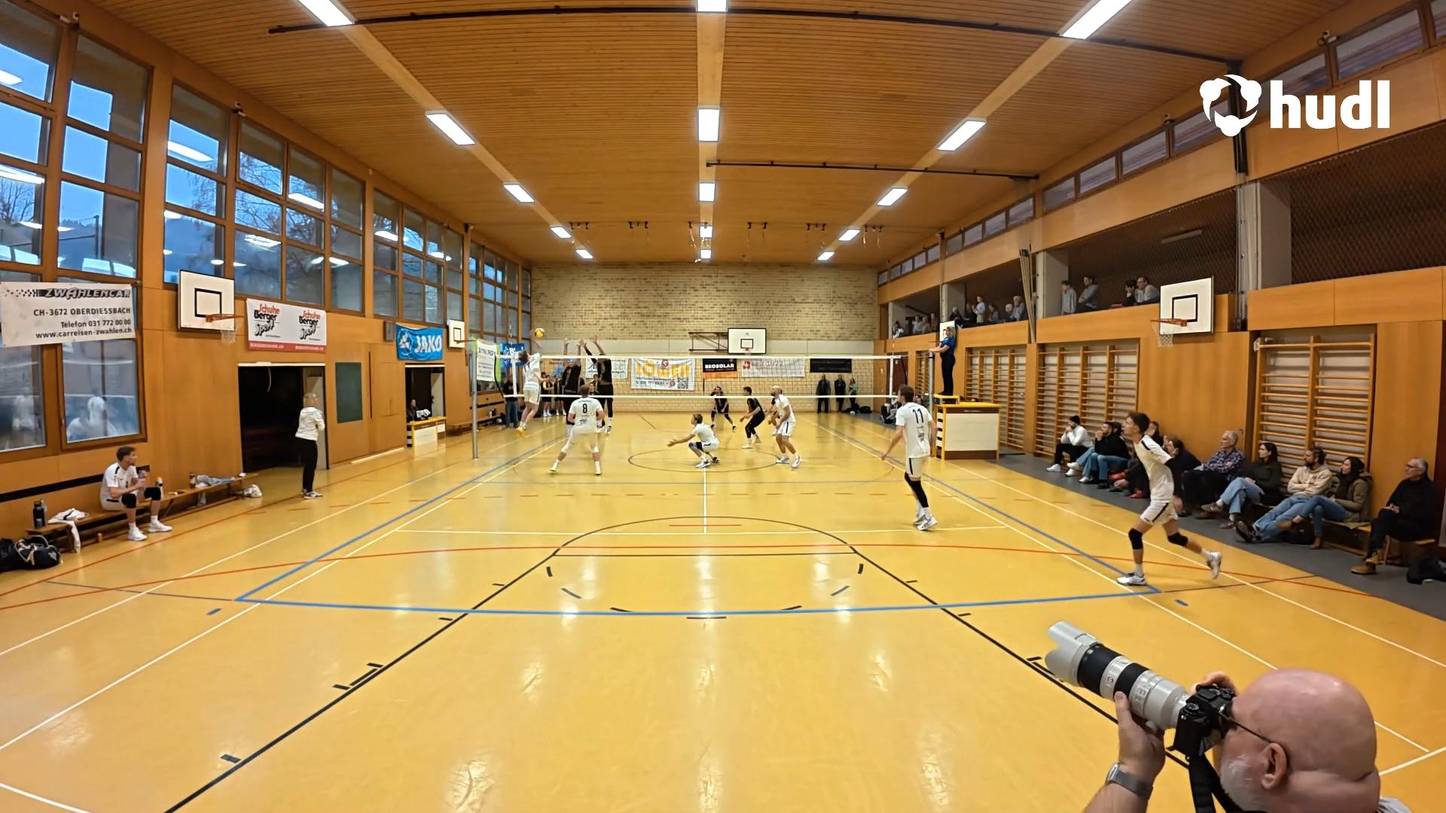Attack: (510, 324, 546, 441)
Block: (581, 340, 618, 442), (554, 327, 586, 428)
Player: (1114, 416, 1225, 588), (883, 388, 938, 531), (552, 382, 610, 476), (667, 412, 723, 470), (771, 392, 802, 470), (737, 387, 770, 450), (704, 383, 736, 439)
ball: (532, 326, 545, 338)
